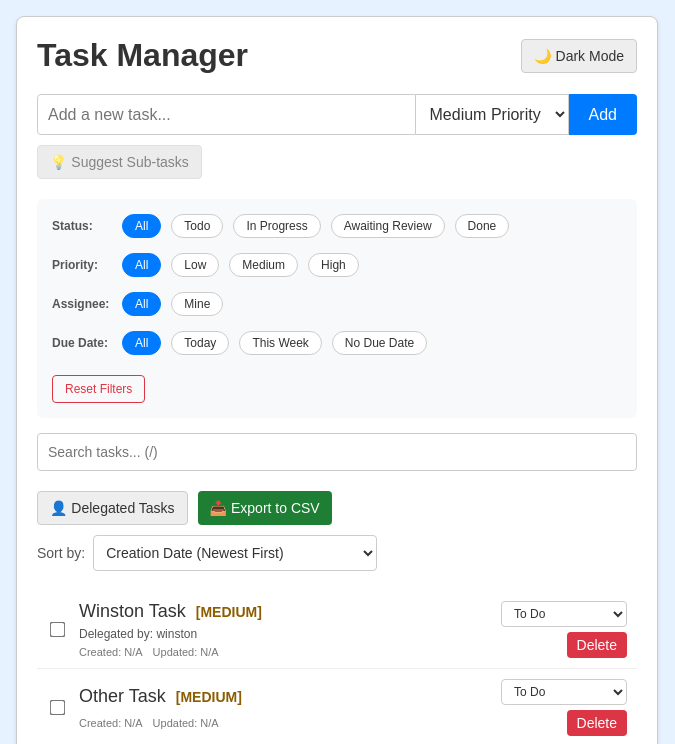
it: App Component Priority Integration › toggles Delegated Tasks view
The image size is (675, 744).
Check: the text "Winston Task" is shown, box x1=79 y1=601 x2=186 y2=621
Check: the text "Other Task" is shown, box x1=79 y1=686 x2=166 y2=706
Click the button "👤 Delegated Tasks". click: [112, 508]
box: x1=37 y1=491 x2=188 y2=525
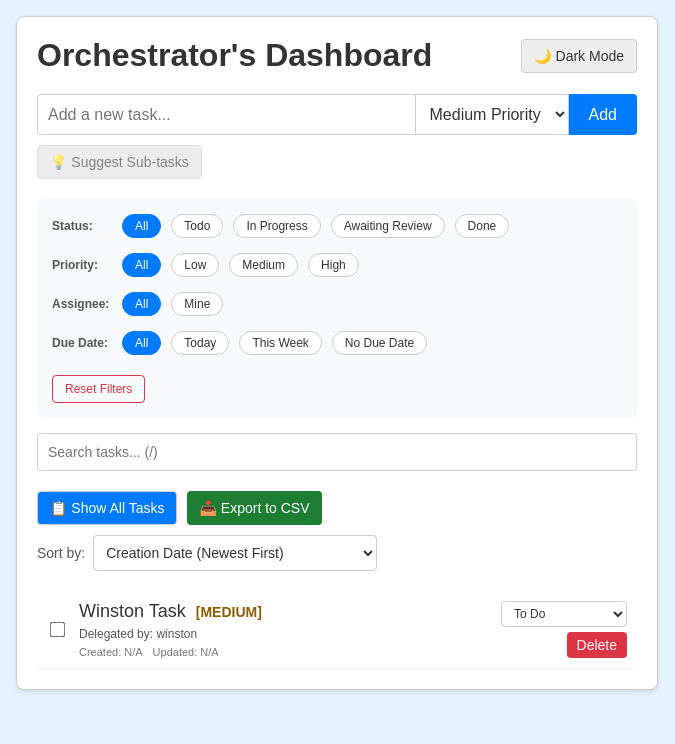
Check: the text "Winston Task" is shown, box x1=79 y1=601 x2=186 y2=621
Check: the heading "Orchestrator's Dashboard" is shown, box x1=37 y1=37 x2=432 y2=74
Check: the text "Other Task" is gone
Click the button "📋 Show All Tasks". click: [107, 508]
box: x1=37 y1=491 x2=178 y2=525
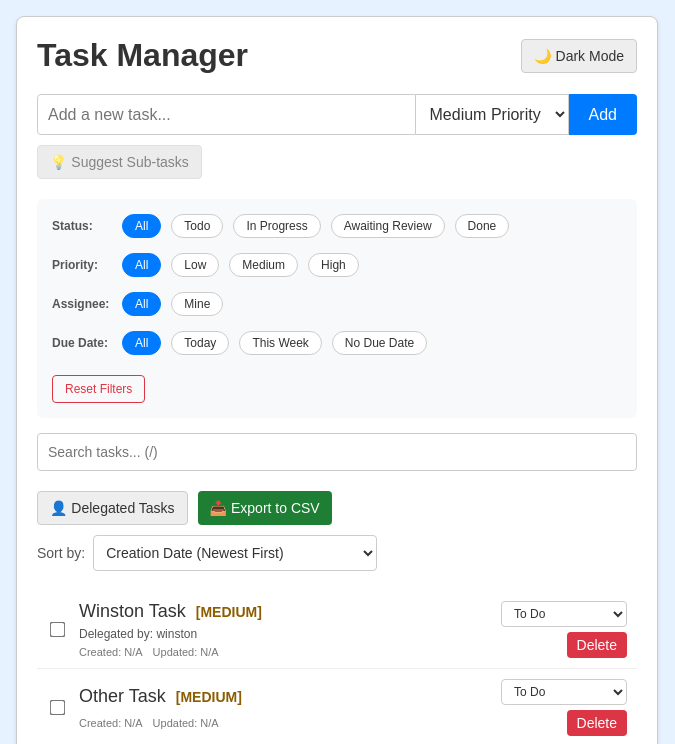
Check: the heading "Task Manager" is shown, box x1=37 y1=37 x2=248 y2=74
Check: the text "Other Task" is shown, box x1=79 y1=686 x2=166 y2=706
